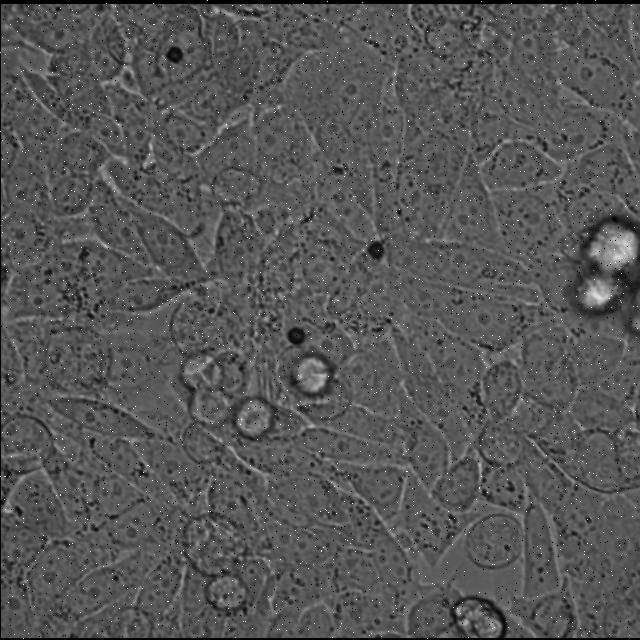microbeads: (282, 322, 308, 346), (365, 237, 387, 260), (164, 44, 183, 64)
